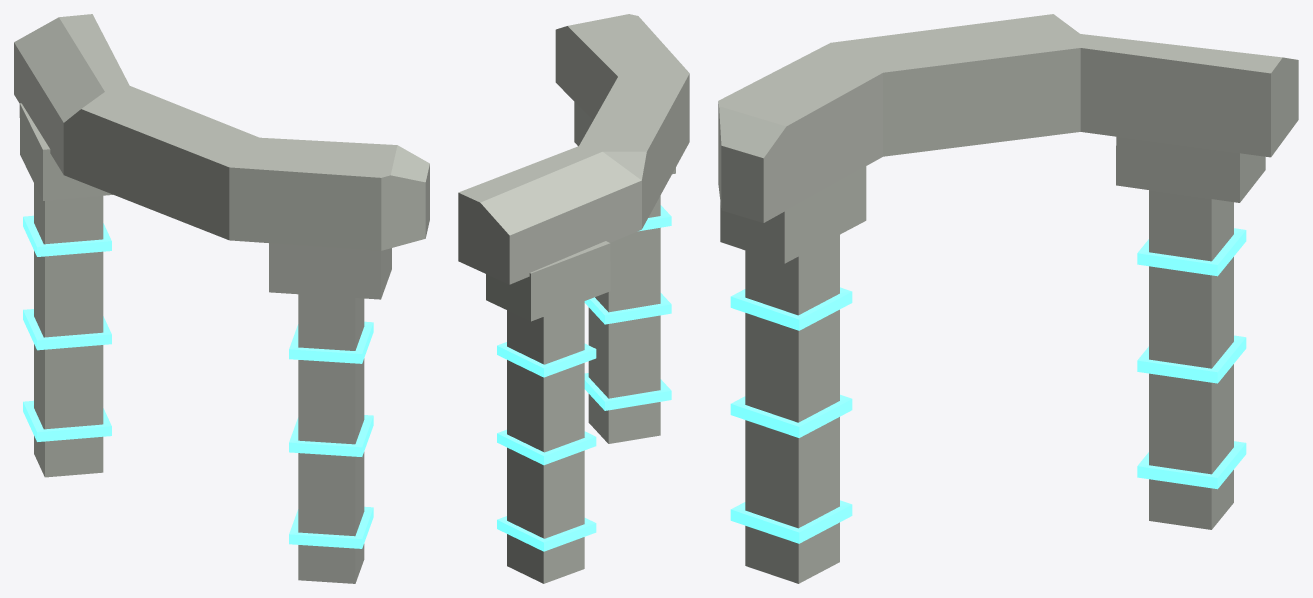
File: Ruine_8.fbx
The picture shows the model from 3 angles, left to right: view 1: azimuth 30°, elevation 25°; view 2: azimuth 150°, elevation 25°; view 3: azimuth 270°, elevation 25°; orthographic projection. The views are drawn at different scales.
Visible parts, largest first — view 1: Ruine 1; view 2: Ruine 1; view 3: Ruine 1.
Boxes of the visible parts, left/top/right/bottom form: Ruine 1: left=14, top=14, right=429, bottom=583; Ruine 1: left=458, top=14, right=689, bottom=583; Ruine 1: left=718, top=14, right=1298, bottom=583.
Bounding box in the file's own units: 220 × 377 × 419.
